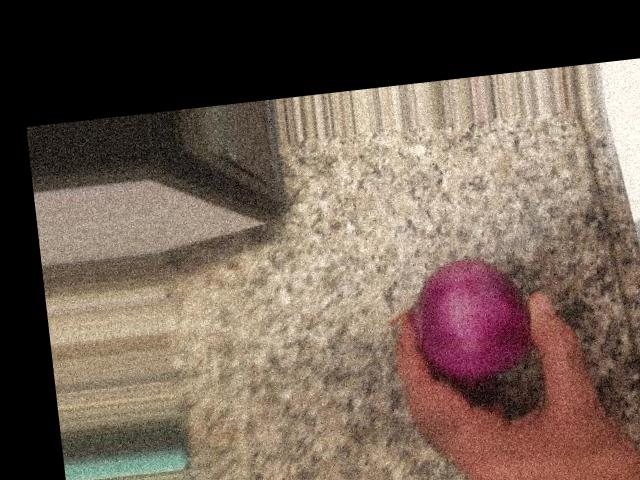onion: (289, 142, 420, 279)
